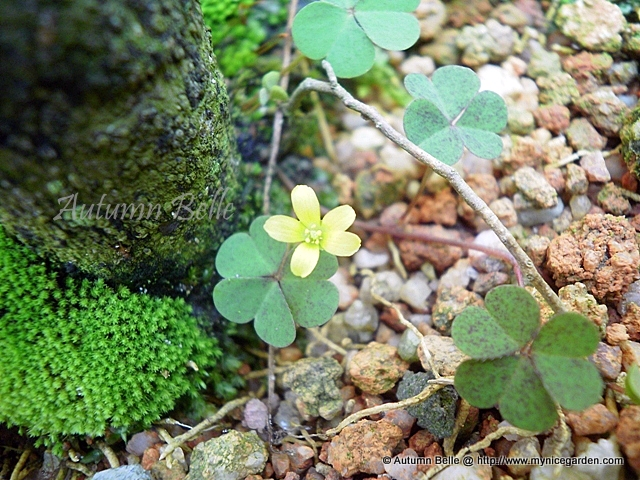oxalis: (281, 9, 522, 163), (444, 271, 615, 438), (197, 186, 359, 343)
